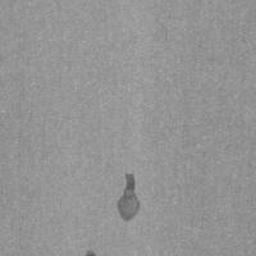Inclusion: (116, 170, 141, 223), (84, 248, 99, 256)
